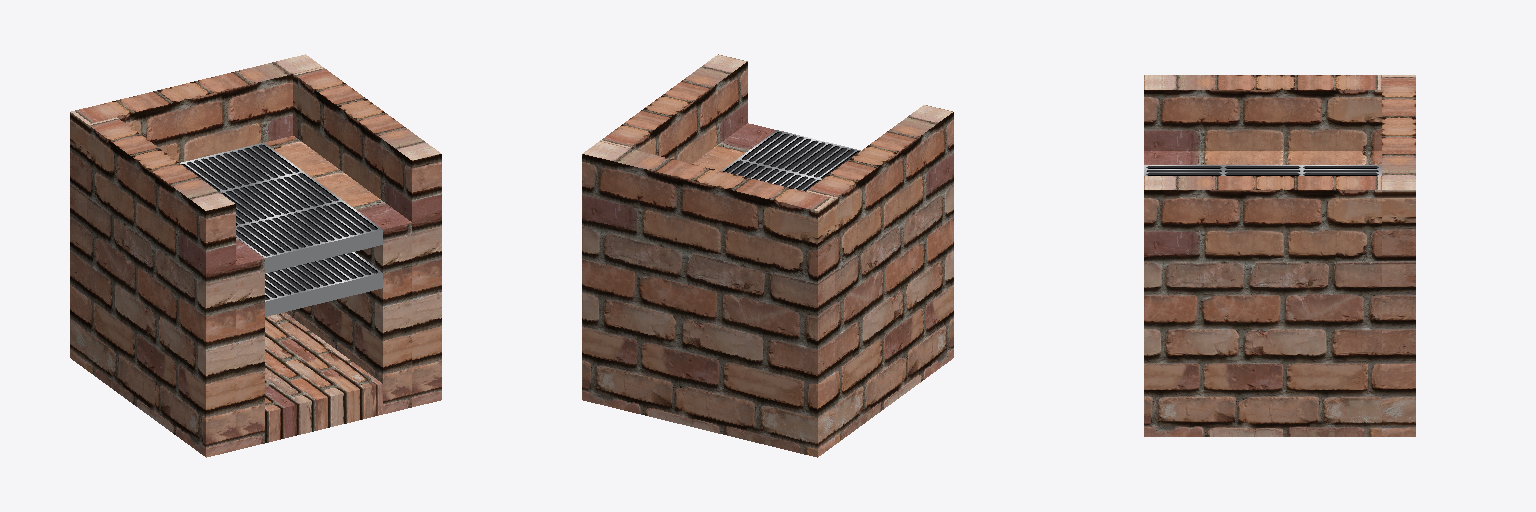
3 renders of one model, left to right at view 1: azimuth 30°, elevation 25°; view 2: azimuth 150°, elevation 25°; view 3: azimuth 270°, elevation 25°, orthographic.
Parts seen in each view (by area): view 1: pCube9; view 2: pCube9; view 3: pCube9.
Part boxes in pixels (bbox=[...]): pCube9: bbox=[70, 54, 441, 457]; pCube9: bbox=[582, 54, 953, 457]; pCube9: bbox=[1144, 75, 1415, 436].
Size of the model in its own units: 2 by 2 by 2.
6 materials, 4 textured.